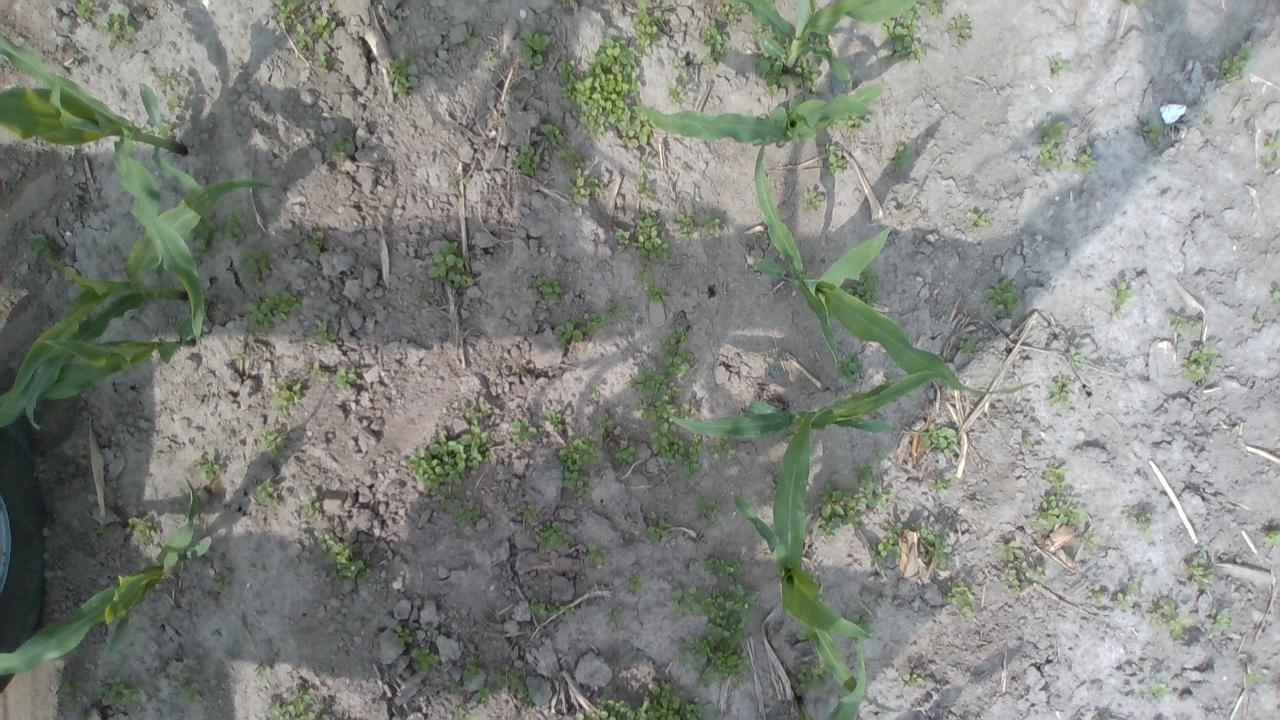Maize: (751, 142, 1035, 402), (0, 178, 270, 432), (0, 36, 209, 340), (0, 478, 213, 676), (730, 492, 886, 712), (666, 371, 946, 434), (630, 81, 884, 146), (741, 0, 917, 91), (0, 330, 192, 406), (817, 638, 868, 720)
Weeds: (556, 34, 654, 148), (403, 420, 494, 495), (625, 364, 698, 423), (706, 582, 761, 654), (647, 422, 702, 480), (636, 680, 714, 720), (556, 432, 602, 497), (316, 532, 370, 585), (810, 484, 861, 538), (881, 13, 930, 66), (245, 288, 303, 332), (426, 242, 478, 288), (632, 207, 672, 266), (551, 308, 609, 348), (1150, 596, 1196, 642), (1029, 498, 1084, 536), (696, 653, 750, 691), (852, 460, 892, 511), (658, 325, 696, 377), (496, 666, 540, 710), (842, 262, 881, 308), (983, 277, 1023, 320), (752, 53, 792, 95), (267, 687, 317, 720), (99, 6, 138, 48), (698, 552, 748, 584), (1035, 117, 1065, 170), (788, 660, 832, 696), (871, 518, 904, 566), (519, 28, 553, 74), (1220, 40, 1254, 86), (1182, 344, 1224, 381), (575, 695, 637, 720), (292, 16, 334, 52), (632, 0, 662, 50), (565, 166, 601, 206), (672, 630, 714, 664), (98, 674, 142, 706), (269, 375, 304, 415), (700, 20, 730, 66), (536, 520, 570, 559), (386, 52, 416, 96), (919, 526, 952, 566), (920, 420, 958, 454), (1184, 550, 1216, 590), (670, 582, 705, 618), (942, 581, 977, 616), (224, 208, 255, 246), (242, 243, 274, 279), (256, 424, 288, 459), (667, 56, 690, 104), (791, 56, 821, 92), (694, 494, 724, 530), (511, 143, 543, 176), (529, 600, 577, 622), (271, 0, 313, 25), (190, 210, 227, 238), (818, 142, 848, 176), (1040, 458, 1070, 492), (835, 354, 866, 386), (439, 492, 472, 522), (1110, 279, 1136, 317), (326, 131, 355, 165), (1166, 312, 1205, 336), (175, 671, 203, 704), (510, 416, 540, 446), (539, 118, 568, 148), (191, 451, 220, 481), (528, 274, 559, 302), (1048, 375, 1073, 409), (128, 515, 158, 543), (946, 14, 972, 46), (252, 478, 280, 507), (460, 656, 488, 685), (309, 322, 338, 349), (646, 510, 672, 540), (828, 111, 869, 130), (998, 566, 1022, 598), (583, 542, 609, 570), (994, 536, 1024, 560), (892, 144, 914, 176), (391, 623, 418, 649), (29, 231, 53, 260), (332, 365, 358, 391), (1150, 672, 1174, 700), (1075, 144, 1099, 172), (1021, 560, 1050, 583), (412, 647, 439, 671), (612, 438, 635, 466), (188, 241, 217, 263), (708, 439, 737, 460), (1263, 134, 1280, 168), (300, 230, 324, 254), (1047, 55, 1072, 78), (673, 212, 698, 234), (803, 190, 824, 216), (556, 148, 583, 168), (916, 0, 944, 19), (164, 94, 190, 114), (806, 33, 832, 53), (851, 614, 874, 636), (643, 282, 667, 303), (208, 574, 233, 594), (1136, 511, 1154, 538), (767, 29, 790, 50), (302, 496, 322, 520), (928, 474, 953, 493), (152, 70, 178, 88), (1143, 117, 1163, 140), (630, 264, 654, 283), (518, 501, 539, 522), (635, 176, 655, 198), (72, 0, 96, 18), (702, 214, 722, 235), (624, 574, 645, 594), (1213, 608, 1231, 631), (462, 24, 478, 49), (546, 411, 565, 432), (614, 228, 632, 250), (596, 413, 614, 435), (968, 210, 992, 226), (1068, 344, 1084, 368), (474, 682, 494, 701), (160, 118, 180, 137), (449, 705, 472, 720), (902, 672, 926, 686), (607, 304, 628, 320), (1114, 591, 1130, 610), (1245, 670, 1264, 686), (1081, 532, 1096, 552), (960, 335, 976, 353), (449, 680, 465, 697), (1126, 577, 1140, 596), (446, 176, 470, 187), (309, 362, 325, 378), (637, 153, 652, 170), (257, 663, 274, 678), (62, 681, 73, 704), (799, 704, 814, 720), (1265, 528, 1280, 544), (482, 48, 497, 64), (608, 609, 622, 626), (872, 591, 886, 608), (589, 383, 602, 401), (752, 22, 765, 40), (1092, 584, 1104, 603), (479, 402, 494, 417), (872, 450, 888, 464), (1200, 110, 1213, 127), (316, 52, 328, 70), (458, 403, 472, 417), (72, 197, 87, 210), (1252, 310, 1265, 324), (1271, 288, 1280, 306), (1022, 436, 1034, 448), (1125, 0, 1144, 7), (414, 290, 426, 301), (809, 572, 820, 584), (798, 627, 806, 641), (632, 650, 646, 658), (988, 408, 999, 417)
